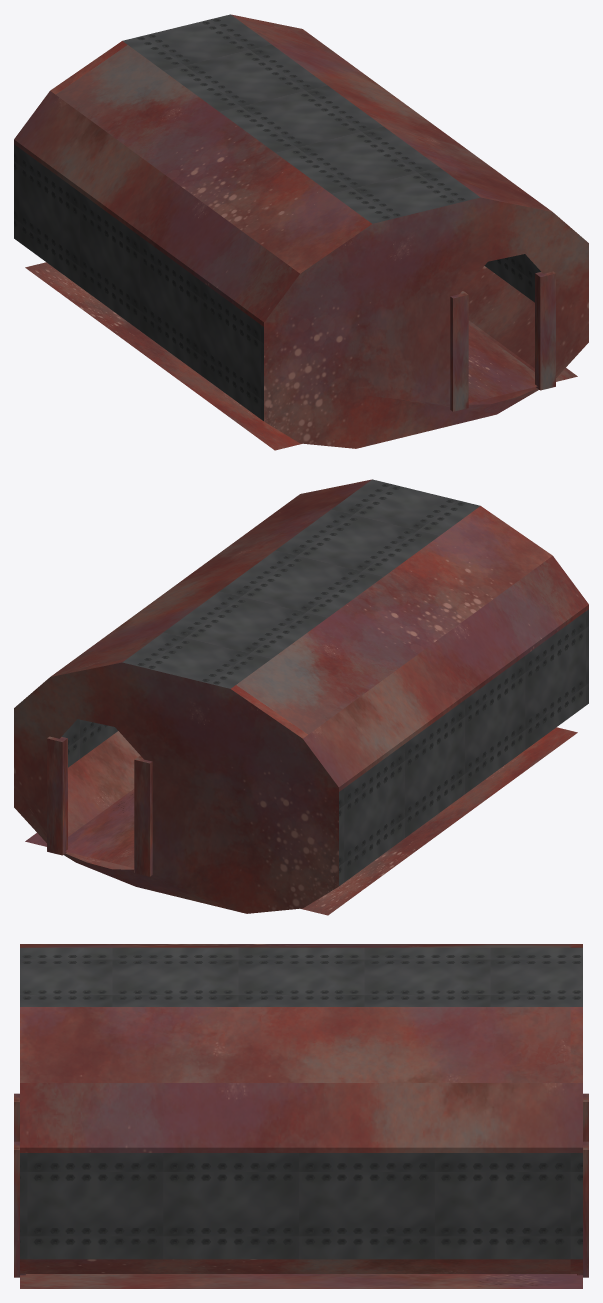
The model's file is Pipe_Navmesh.obj.
The picture shows the model from 3 angles, top to bottom: view 1: azimuth 30°, elevation 25°; view 2: azimuth 150°, elevation 25°; view 3: azimuth 270°, elevation 25°; orthographic projection. The views are drawn at different scales.
Parts seen in each view (by area): view 1: Cube.010; view 2: Cube.010; view 3: Cube.010.
Boxes of the visible parts, left/top/right/bottom form: Cube.010: left=14, top=14, right=588, bottom=450; Cube.010: left=14, top=479, right=588, bottom=915; Cube.010: left=14, top=944, right=588, bottom=1288.
Size of the model in its own units: 6 by 3.9 by 8.17.
